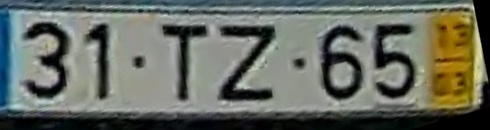1: (83, 18, 114, 105)
3: (18, 15, 72, 102)
5: (371, 20, 420, 103)
6: (316, 21, 367, 104)
T: (157, 19, 211, 107)
Z: (214, 21, 280, 104)
